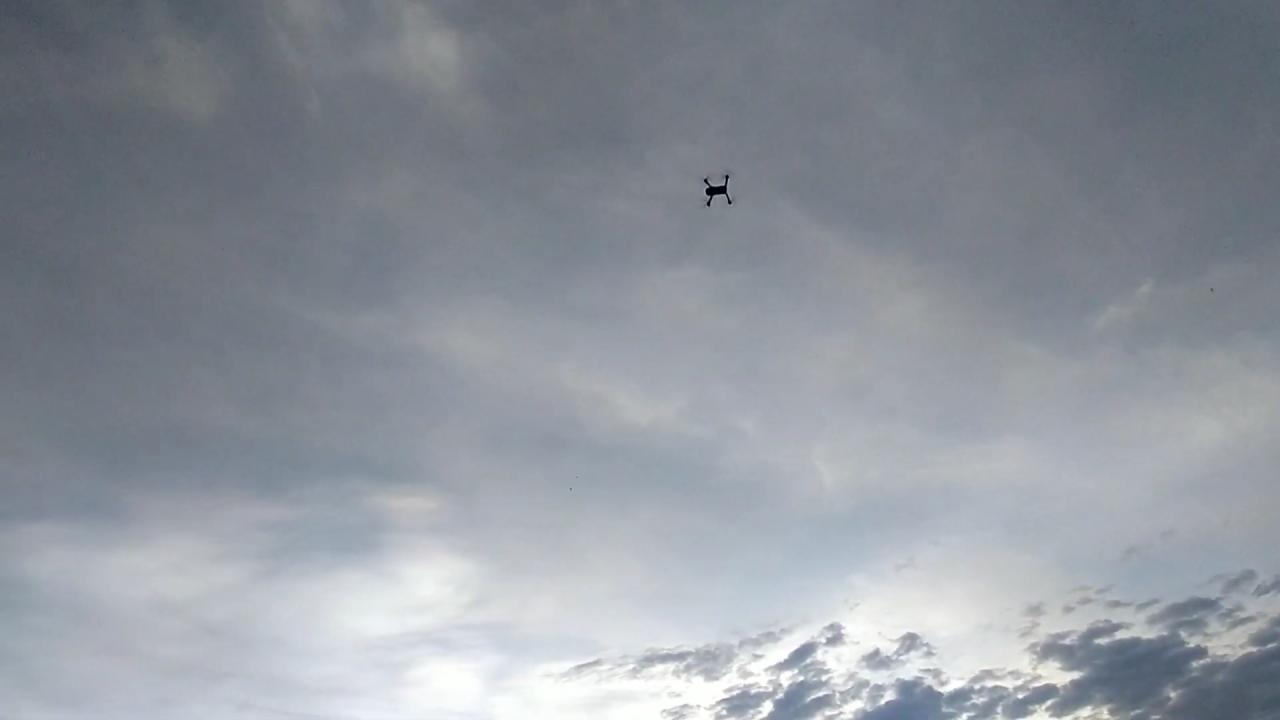Drone: (694, 168, 741, 216)
